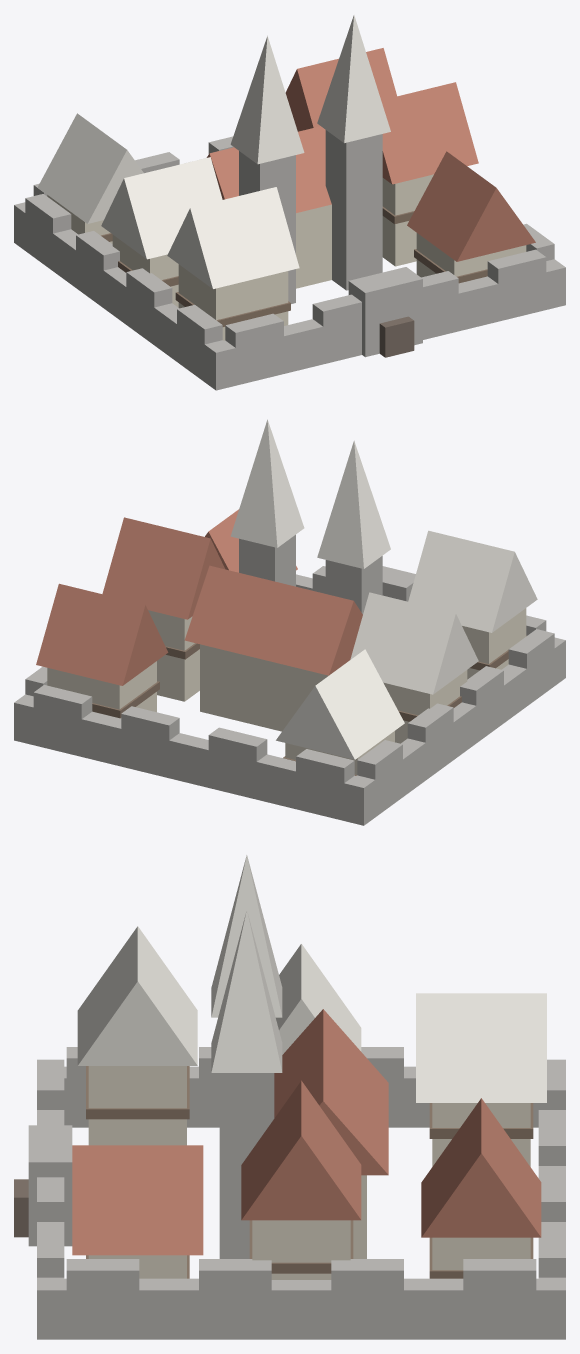
File: city.glb
The picture shows the model from 3 angles, top to bottom: view 1: azimuth 30°, elevation 25°; view 2: azimuth 150°, elevation 25°; view 3: azimuth 270°, elevation 25°; orthographic projection. The views are drawn at different scales.
Parts seen in each view (by area): view 1: medieval_city; view 2: medieval_city; view 3: medieval_city.
Part boxes in pixels (bbox=[...]): medieval_city: bbox=[14, 15, 565, 390]; medieval_city: bbox=[14, 419, 565, 825]; medieval_city: bbox=[14, 855, 565, 1339].
Bounding box in the file's own units: 0.9585 × 0.6917 × 1.
